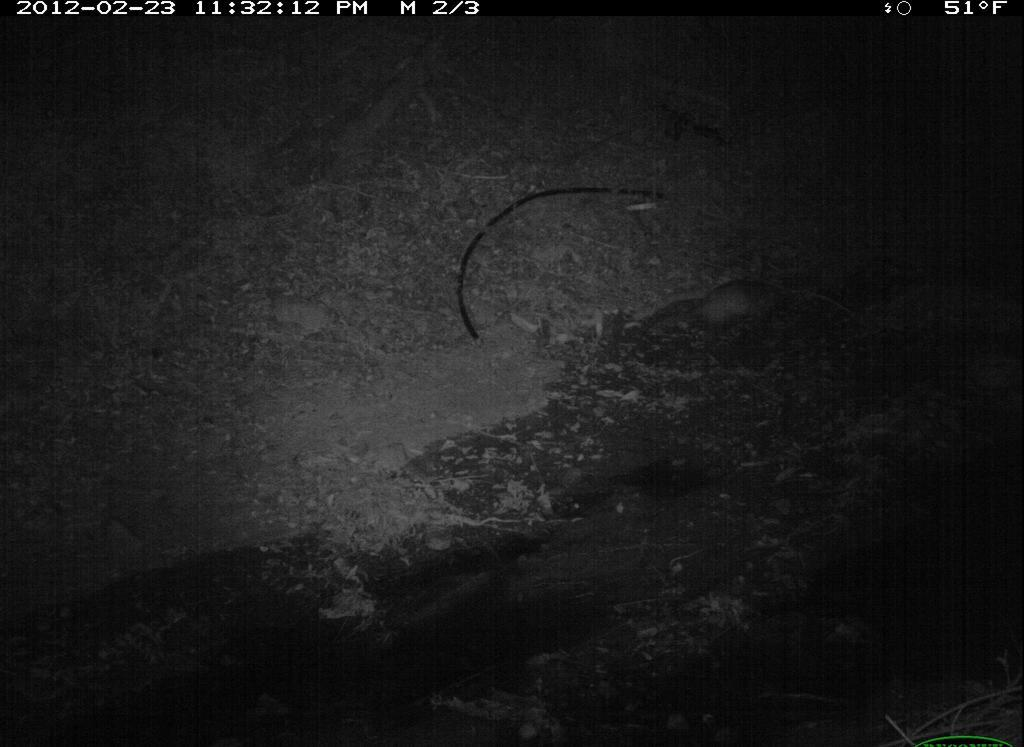opossum: (666, 254, 815, 355)
